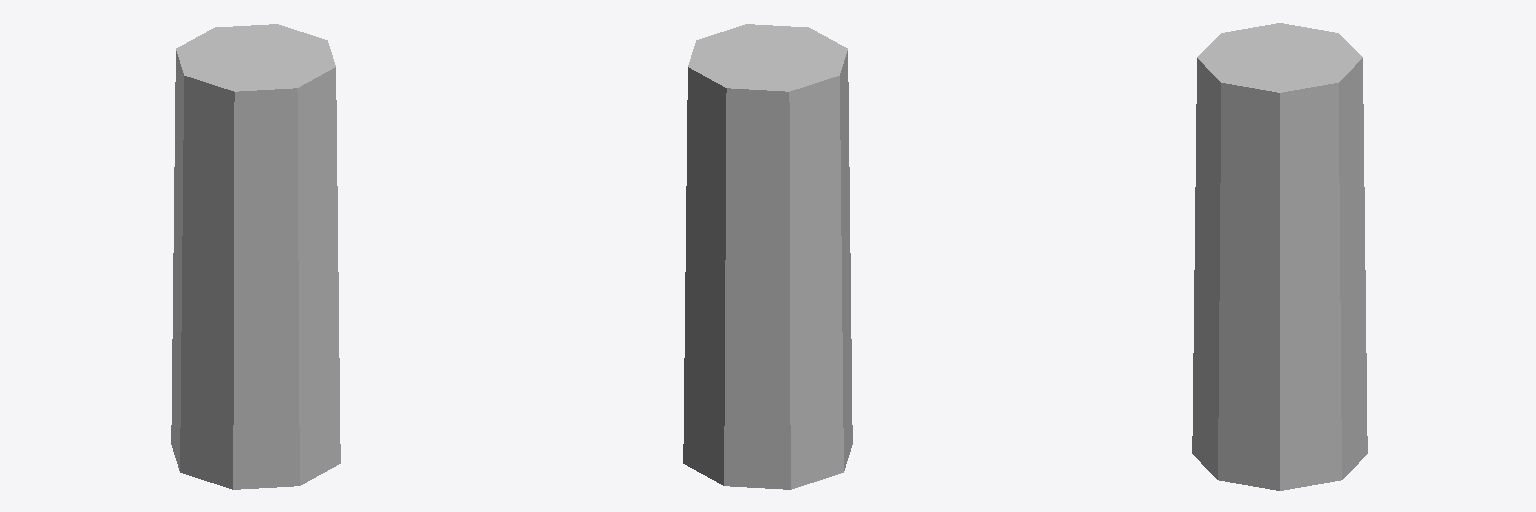
File: pinetree_log.obj
3 renders of one model, left to right at view 1: azimuth 30°, elevation 25°; view 2: azimuth 150°, elevation 25°; view 3: azimuth 270°, elevation 25°, orthographic.
Visible parts, largest first — view 1: pinetree_log; view 2: pinetree_log; view 3: pinetree_log.
Part boxes in pixels (x1,y1,x2,y2): pinetree_log: (171, 24, 340, 489); pinetree_log: (683, 24, 852, 489); pinetree_log: (1192, 23, 1367, 490).
Bounding box in the file's own units: 0.8 × 1.99 × 0.8.